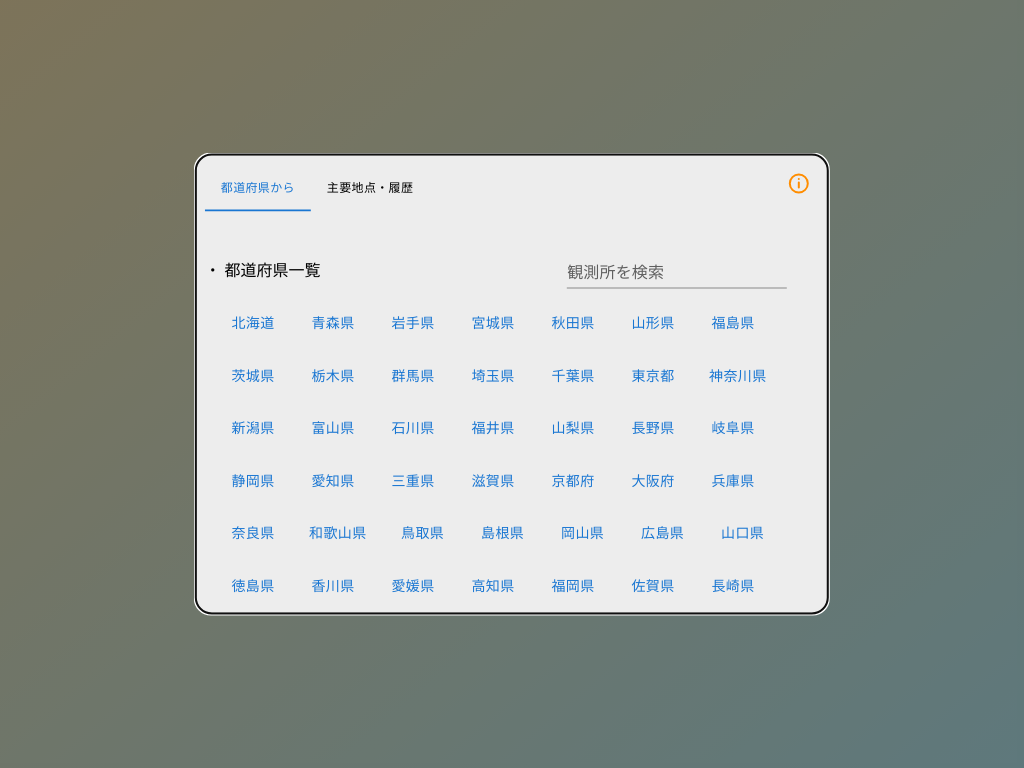
Scenario: SelectObsModal Page › Move page by pressing button
Check: the button "大阪府" is shown, box [621,462,685,498]
Click the button "東京都" at (653, 375), box [621,357,685,394]
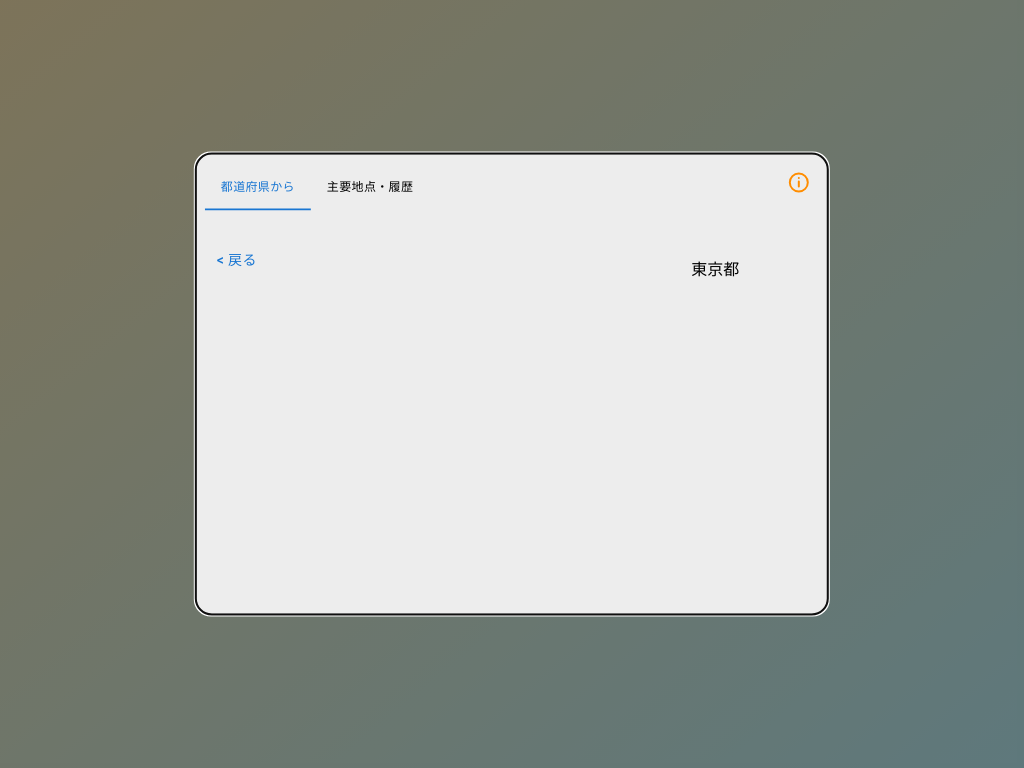
Check: the text "東京都" is shown, box [691,256,739,280]
